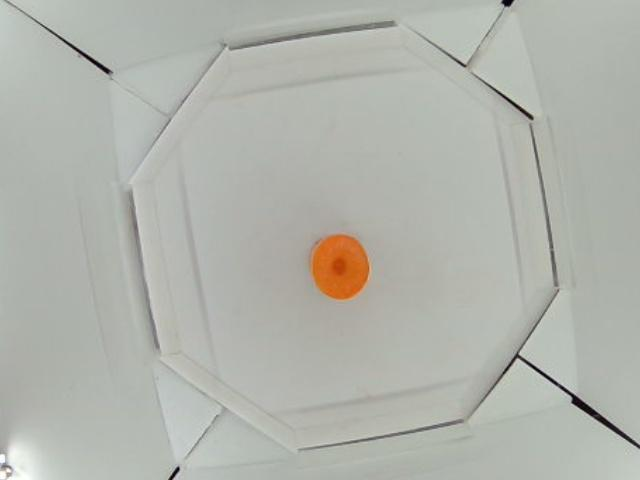Carrot: (311, 236, 370, 300)
